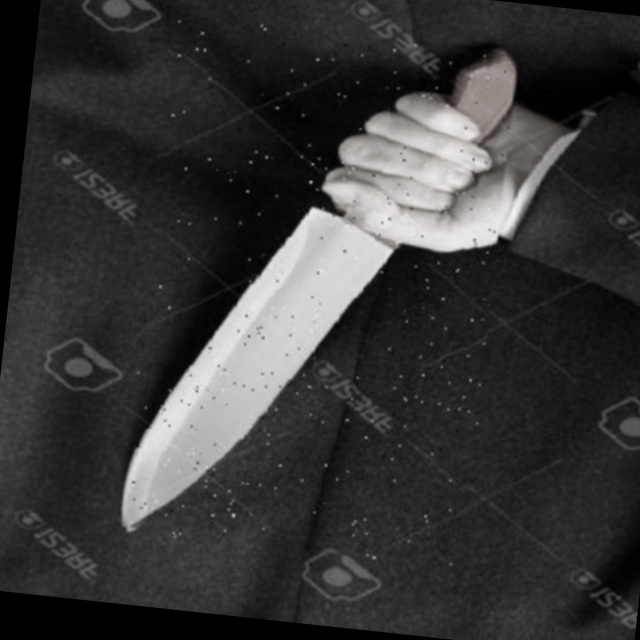Sharp-Object: (120, 16, 518, 568)
